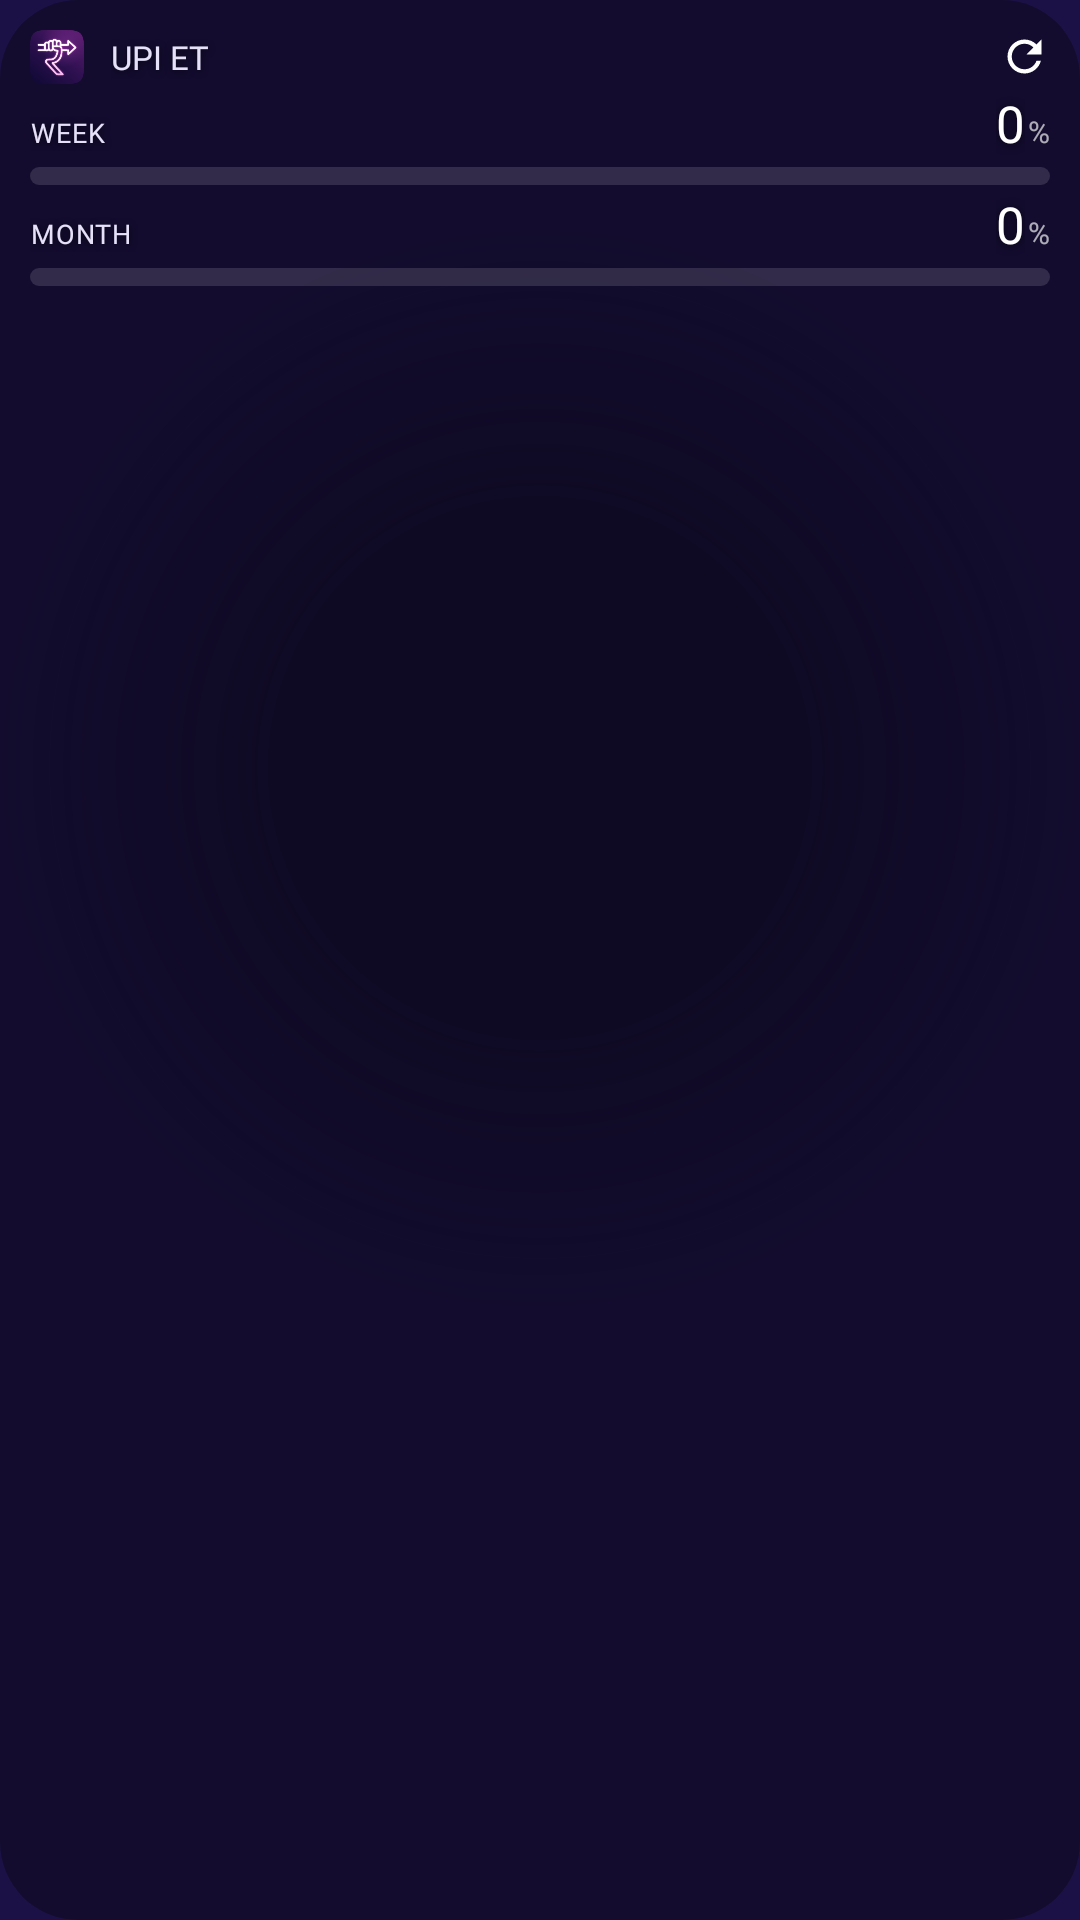

Where icons sit on this 1080 x 1920 app screen, as [left=x1, top=y1, right=x2, bottom=y2]:
Refresh: [left=1007, top=39, right=1042, bottom=74]
